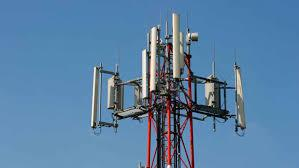Microwave Antenna: (191, 29, 202, 45)
antenna: (232, 64, 250, 130), (167, 9, 182, 83), (147, 25, 159, 93), (90, 65, 101, 128), (108, 73, 118, 117), (142, 47, 148, 101)
